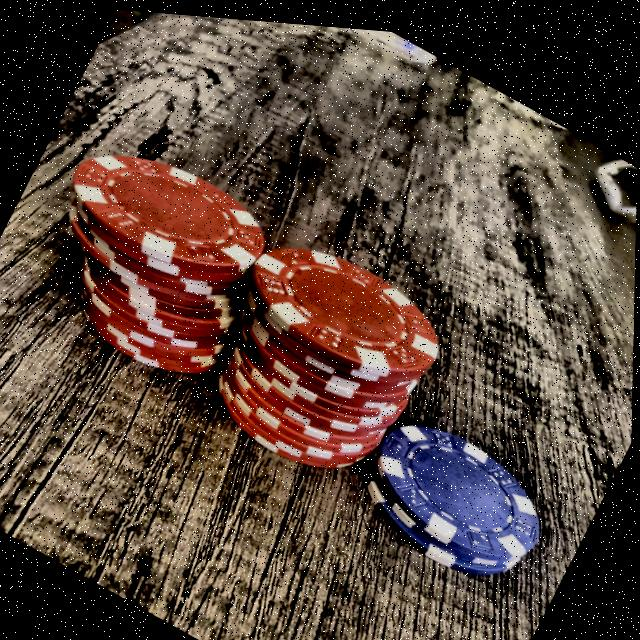Chip: (185, 211, 462, 505), (14, 116, 294, 399), (341, 389, 568, 596)
